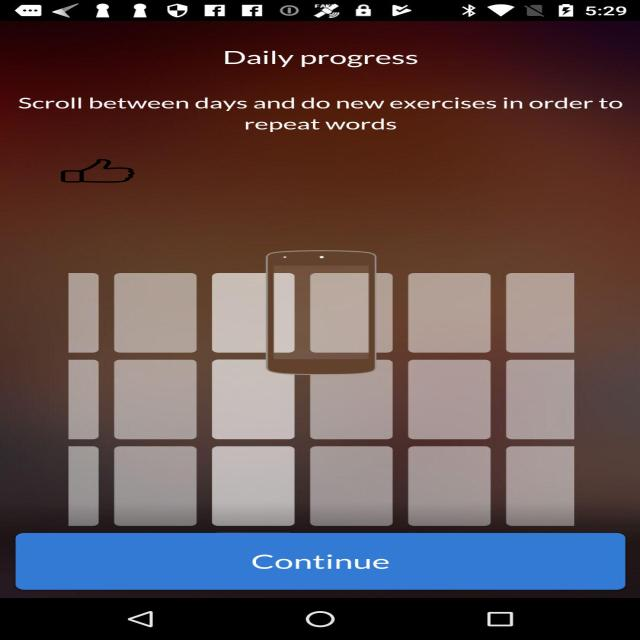privacy zuckering: (60, 159, 136, 183)
